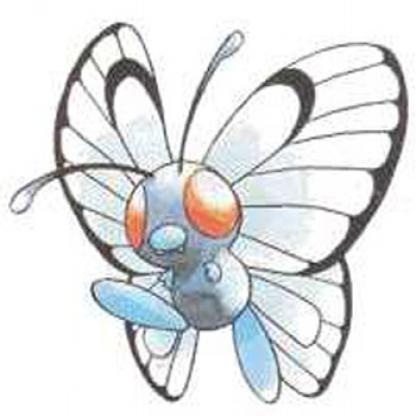Butterfree: (41, 11, 405, 407)
